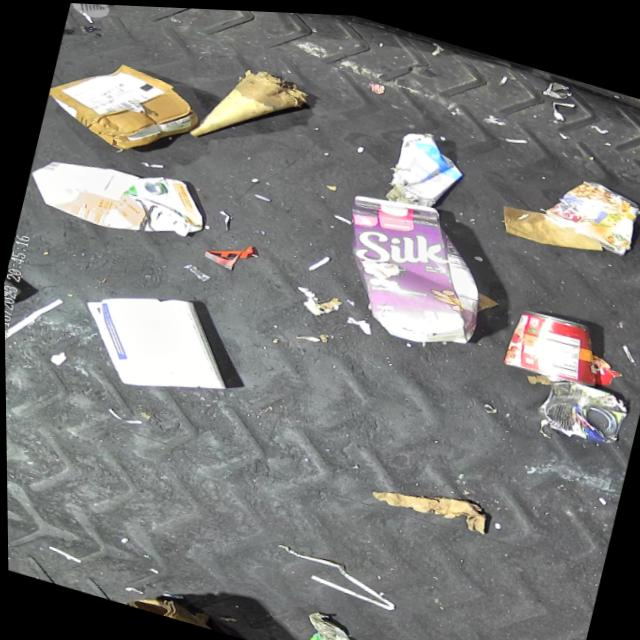can: (498, 297, 607, 385), (538, 163, 640, 252), (530, 366, 632, 445)
non_white_jug: (324, 180, 504, 353), (22, 135, 210, 250)
